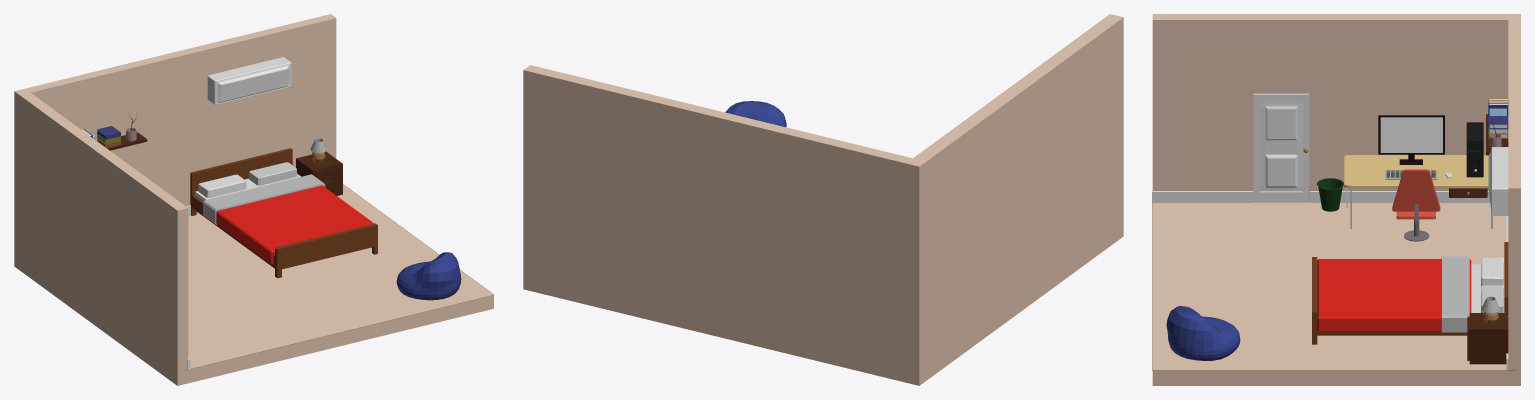
File: LowPolyBedRoom.fbx
3 renders of one model, left to right at view 1: azimuth 30°, elevation 25°; view 2: azimuth 150°, elevation 25°; view 3: azimuth 270°, elevation 25°, orthographic. The views are drawn at different scales.
Parts seen in each view (by area): view 1: Cube, Cube.005, Cube.003, Cube.002, Sphere.002, Cube.006, Cube.009, Cube.008, Cube.007; view 2: Cube, Sphere.002; view 3: Cube, Cube.005, Cube.001, Cube.010, Sphere.002, Plane.013, Cube.006, Cube.009, Cube.028, Cube.003, Cube.002, Cube.031 (+11 smaller).
Part boxes in pixels (bbox=[...]): Cube: bbox=[14, 14, 493, 385]; Cube.005: bbox=[216, 185, 373, 263]; Cube.003: bbox=[190, 148, 377, 278]; Cube.002: bbox=[207, 57, 291, 104]; Sphere.002: bbox=[396, 252, 461, 300]; Cube.006: bbox=[203, 174, 325, 224]; Cube.009: bbox=[296, 151, 342, 195]; Cube.008: bbox=[198, 174, 246, 197]; Cube.007: bbox=[249, 162, 297, 185]; Cube: bbox=[523, 14, 1123, 385]; Sphere.002: bbox=[725, 101, 786, 127]; Cube: bbox=[1152, 14, 1520, 385]; Cube.005: bbox=[1317, 259, 1471, 331]; Cube.001: bbox=[1253, 93, 1309, 202]; Cube.010: bbox=[1344, 155, 1488, 188]; Sphere.002: bbox=[1166, 306, 1240, 360]; Plane.013: bbox=[1380, 117, 1442, 152]; Cube.006: bbox=[1441, 256, 1469, 332]; Cube.009: bbox=[1467, 313, 1508, 364]; Cube.028: bbox=[1392, 169, 1440, 211]; Cube.003: bbox=[1312, 242, 1508, 344]; Cube.002: bbox=[1488, 147, 1508, 215]; Cube.031: bbox=[1152, 190, 1253, 203].
Size of the model in its own units: 400 by 212 by 358.
